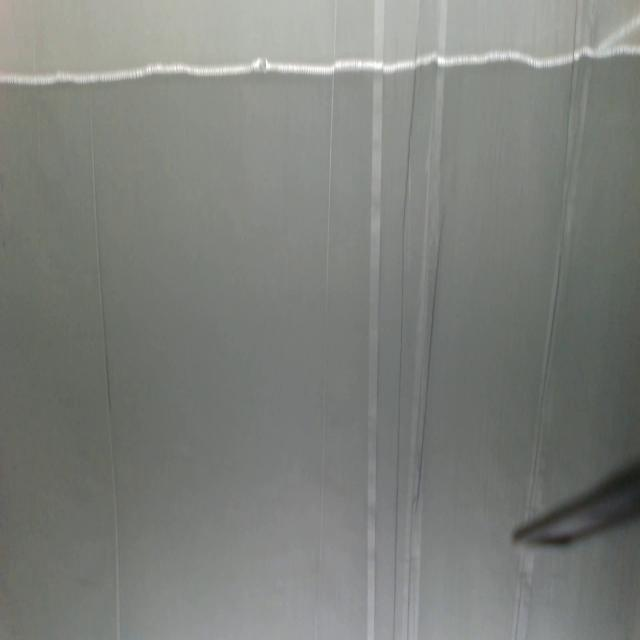crease: (392, 0, 448, 639), (524, 0, 581, 513), (87, 91, 124, 639), (364, 0, 386, 640), (321, 68, 336, 312), (316, 405, 329, 640), (510, 550, 527, 640)
